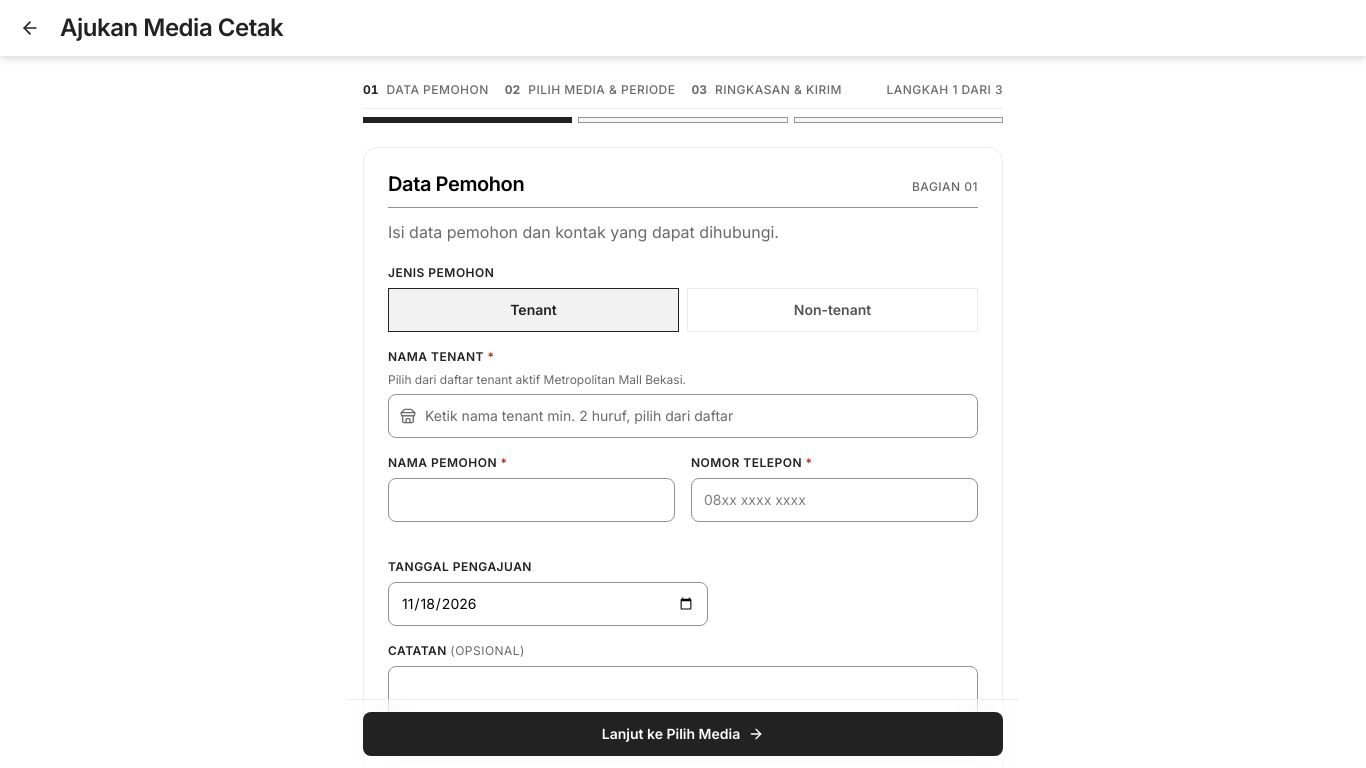
Test: PromoCetakWizard — satu media di beberapa lokasi (B2) › mencentang media menambah satu baris lokasi saja (bukan langsung dua)
Click the button "Non-tenant" at [832, 310], box [687,288,978,332]
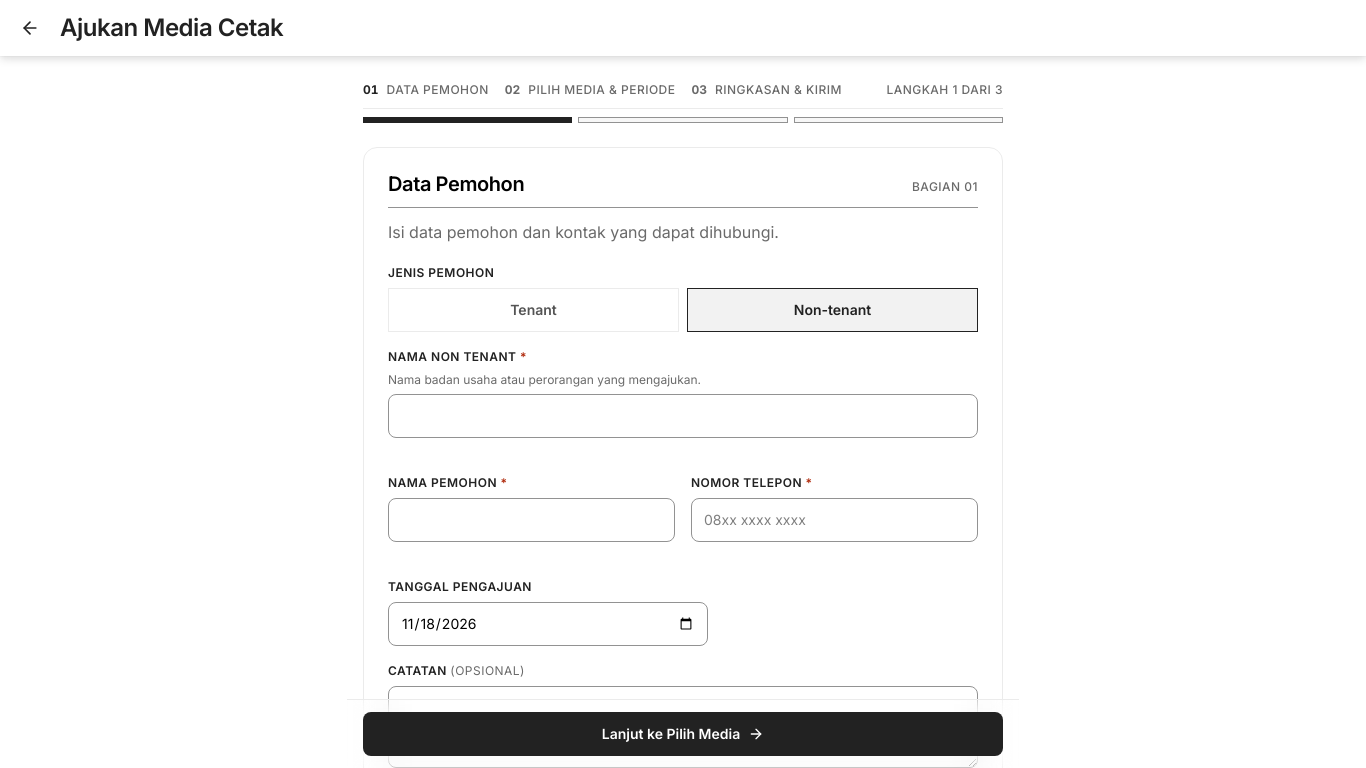
Type "PT Contoh" into the field labelled "Nama Non Tenant *" at [683, 416], box [388,394,978,438]
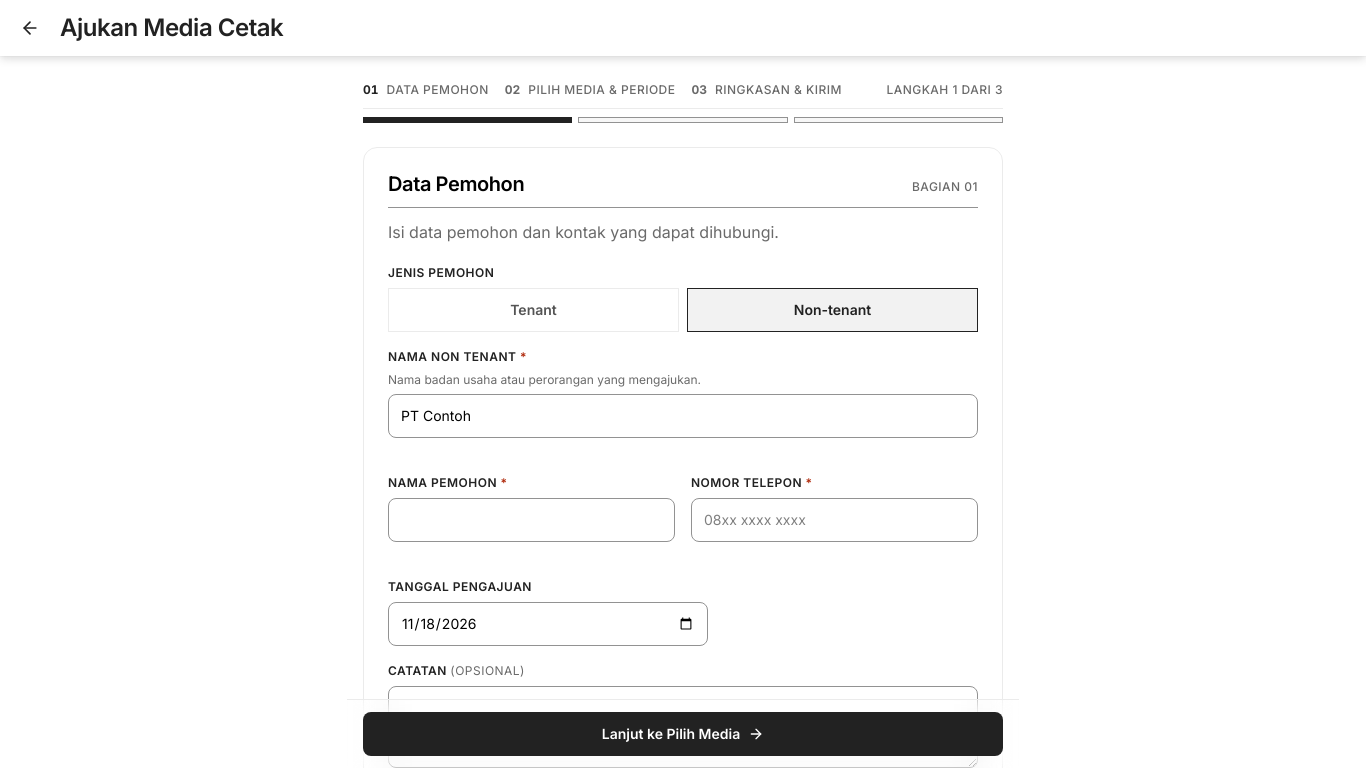
Type "Andi" into the field labelled "Nama Pemohon *" at [532, 520], box [388,498,675,542]
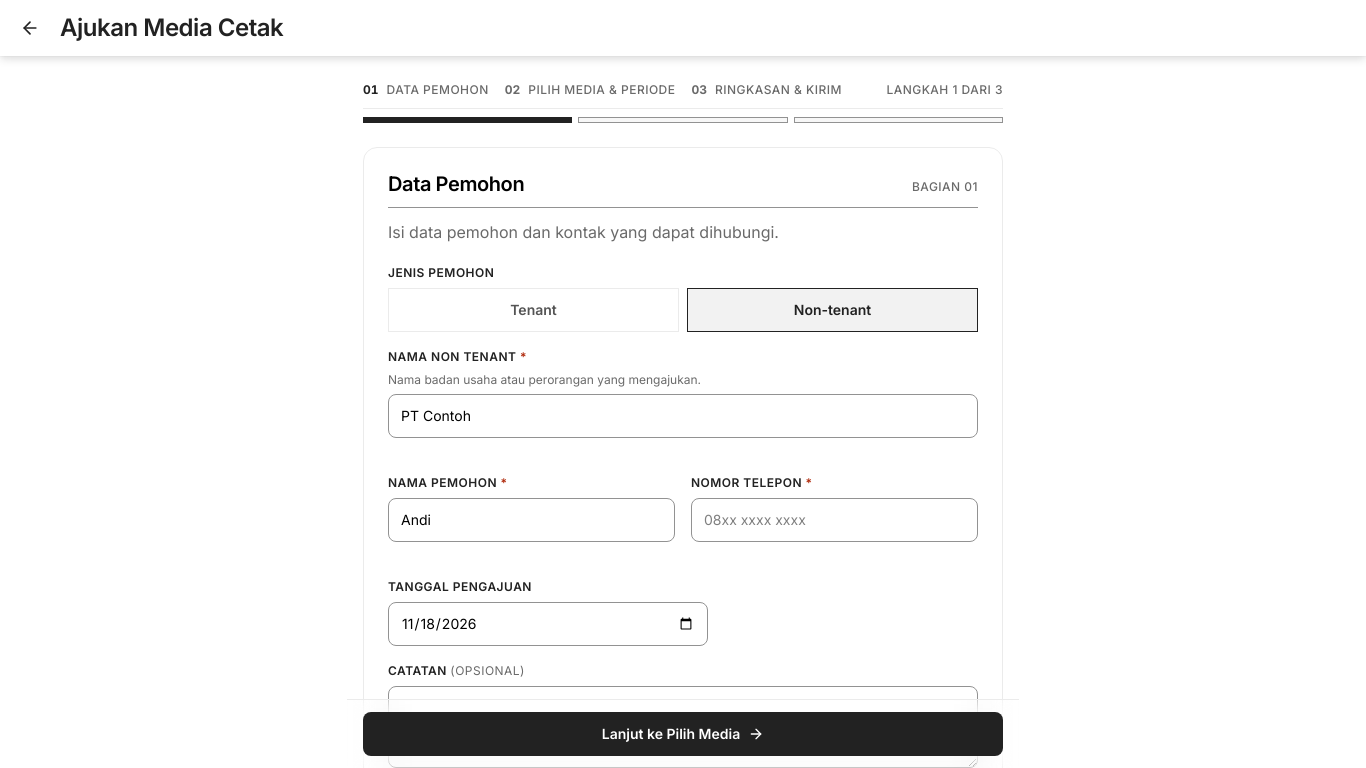
Type "081234567890" into the field labelled "Nomor Telepon *" at [834, 520], box [691,498,978,542]
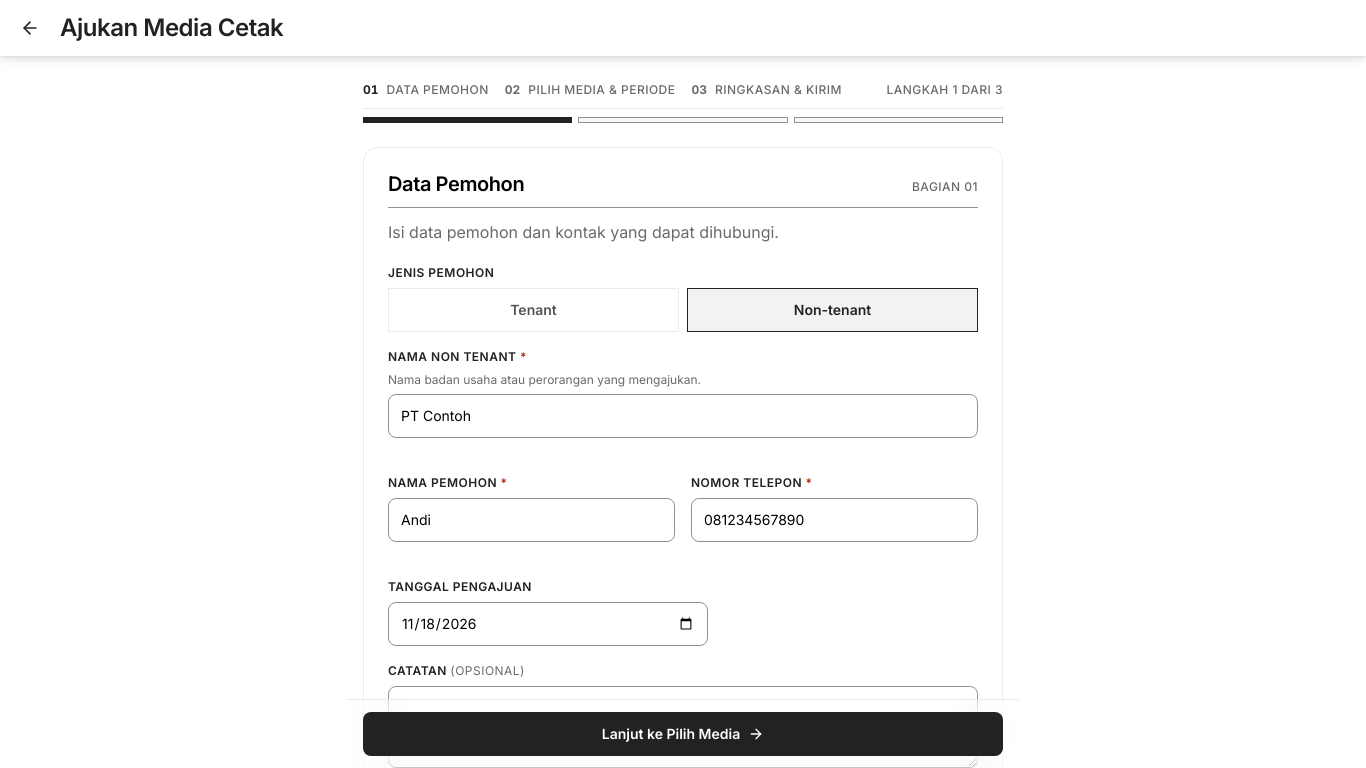
Click the button "Lanjut ke Pilih Media" at [683, 734], box [363,712,1003,756]
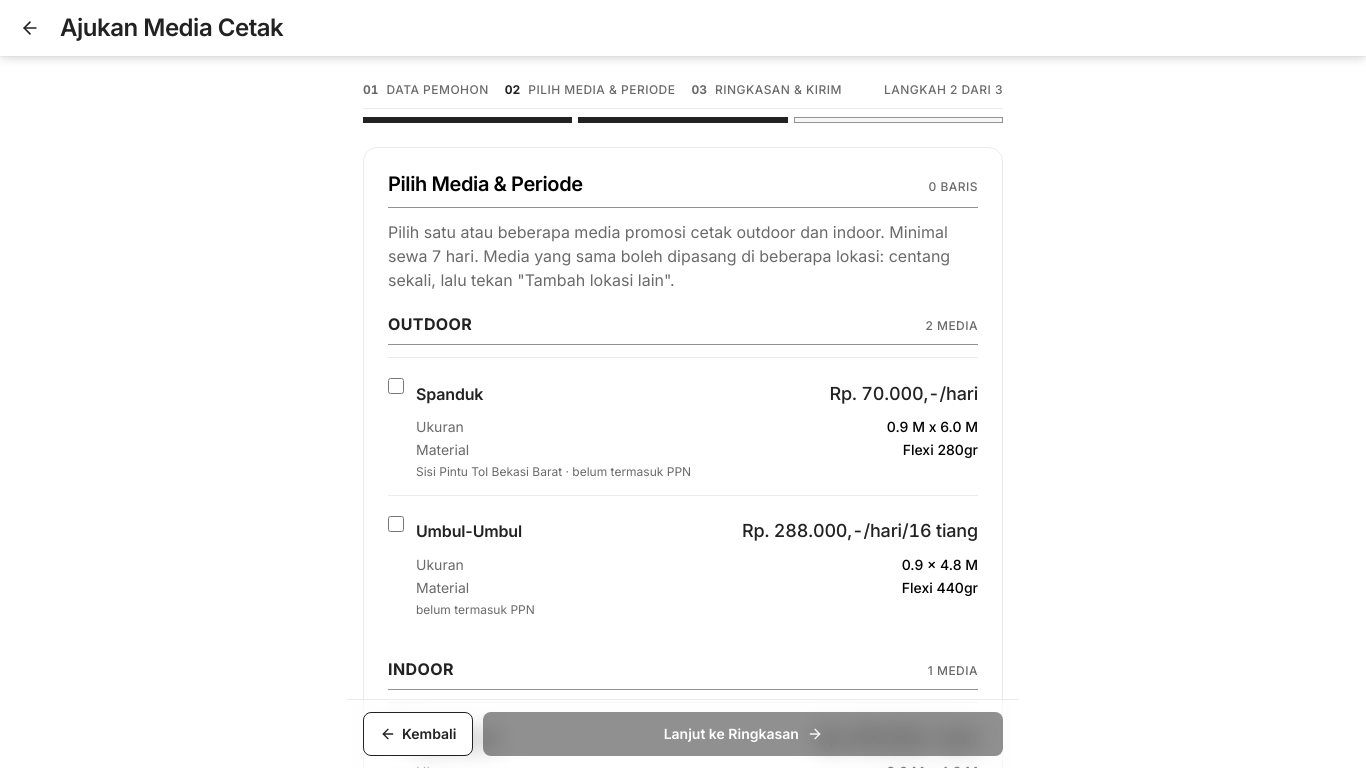
Check: the heading "Pilih Media & Periode" is shown, box [388,172,583,197]
Click the checkbox labelled "Spanduk" at [396, 386], box [388,378,404,394]
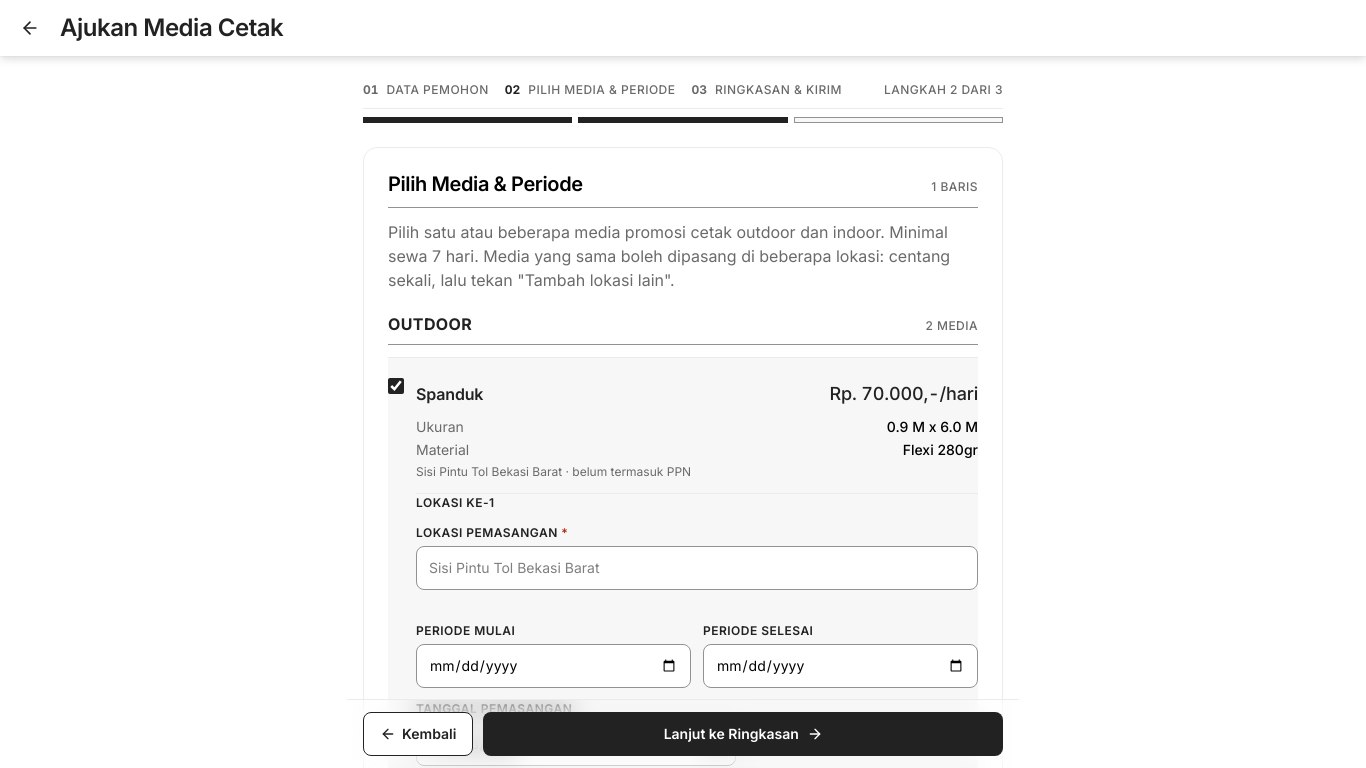
Check: the number of fields labelled "Lokasi Pemasangan *" is 1, box [416,546,978,590]
